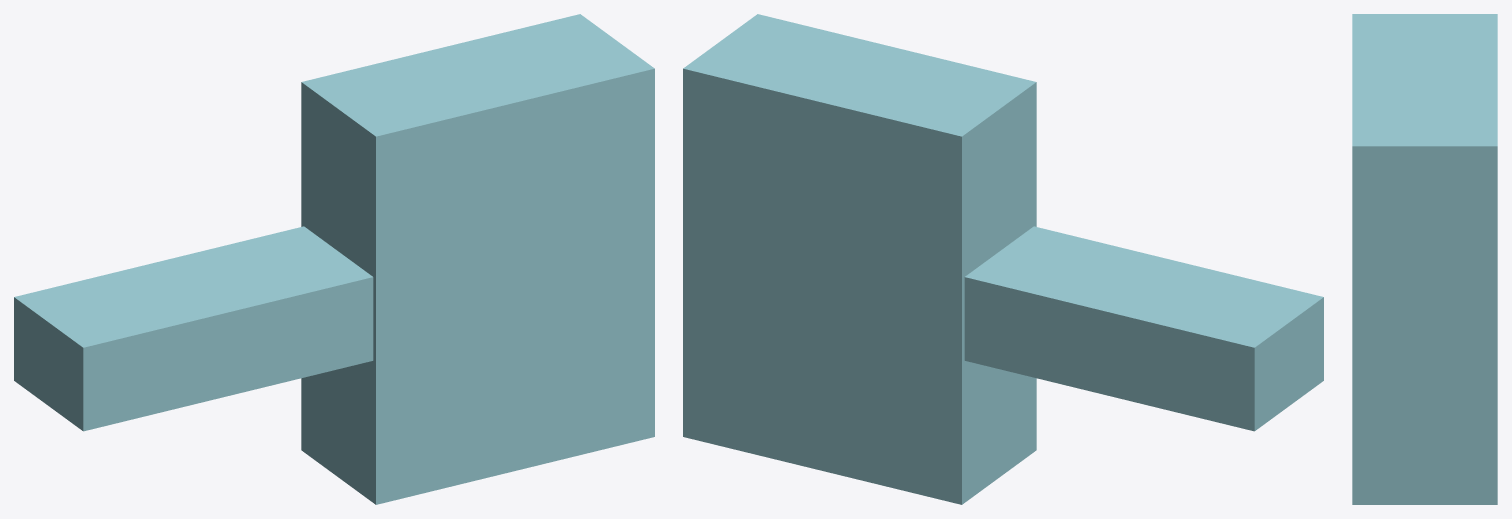
The model's file is cuboid_brush_v10011.obj.
3 renders of one model, left to right at view 1: azimuth 30°, elevation 25°; view 2: azimuth 150°, elevation 25°; view 3: azimuth 270°, elevation 25°, orthographic. The views are drawn at different scales.
Bounding box in the file's own units: 0.1276 × 0.0789 × 0.029.
Materials: 1 (1 with a texture image).
